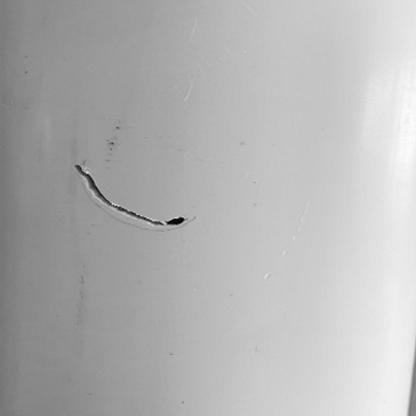fengxi: (72, 163, 195, 229)
